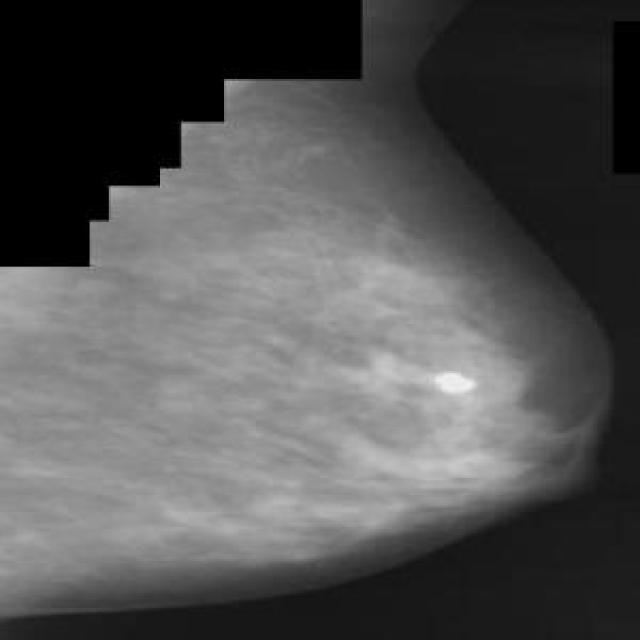tumor: (326, 300, 546, 504)
